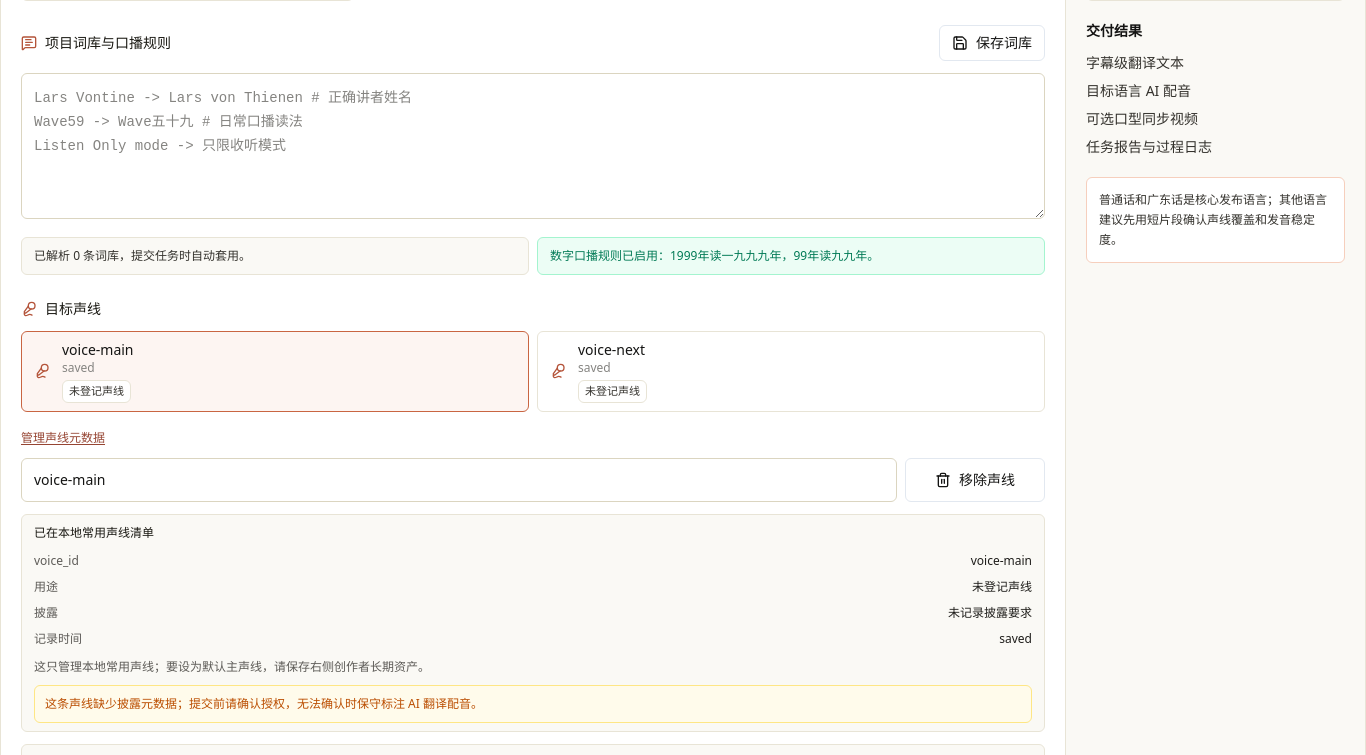
Test: DubbingForm creator assets › invalidates usage-boundary acknowledgement when the primary voice changes
(page scrolled)
Expected: the field showing "voice-main" is shown, [21,458,897,502]
Click the button "voice-next saved 未登记声线": click(612, 350) [537,331,1045,412]
(page scrolled)
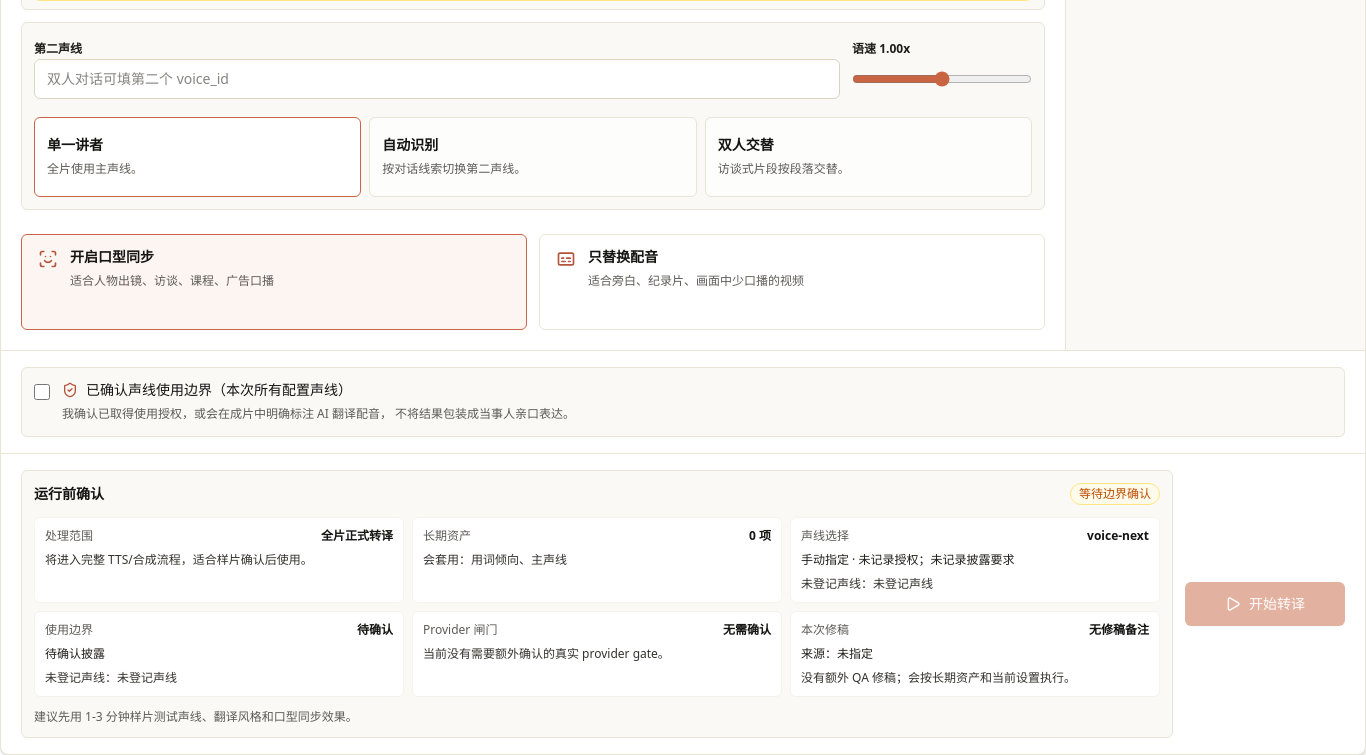
Expected: the checkbox labelled "已确认声线使用边界" is not checked, [34,384,50,400]
Expected: the text "等待边界确认" is shown, [1070,482,1160,504]
Expected: the button "开始转译" is disabled, [1185,582,1345,626]
